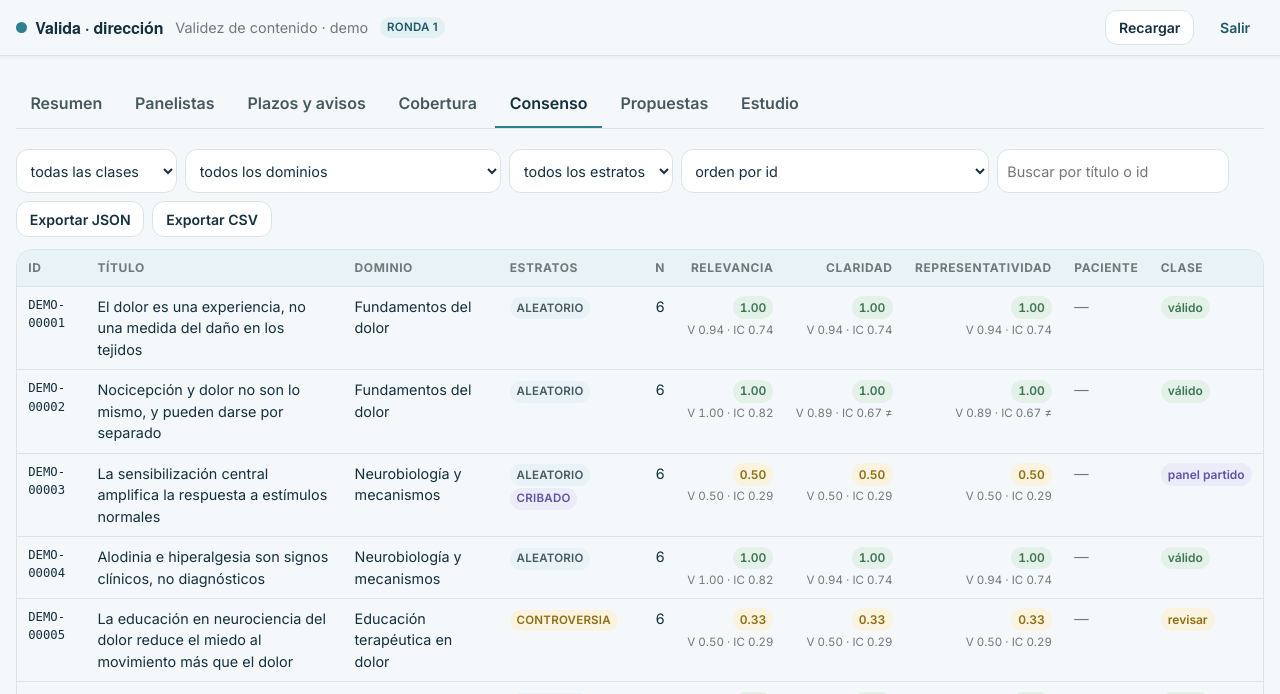
Panel de dirección › al pulsar una fila de Consenso se abre el expediente del concepto
Click the text "DEMO-00005": click(640, 640) [17,598,1263,682]
(page scrolled)
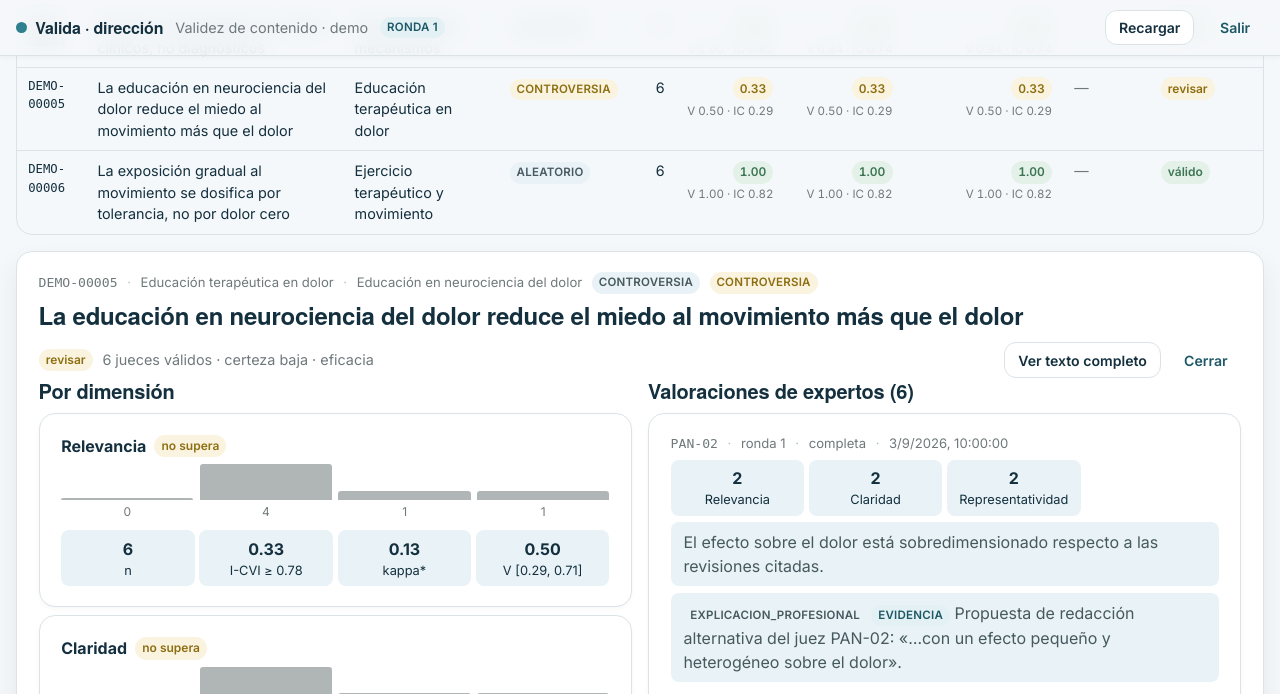
Result: the heading "Por dimensión" is shown at [39,376,175,405]
Result: the heading "Valoraciones de expertos (6)" is shown at [648,376,914,405]
Click the button "Ver texto completo": click(1083, 360) [1004,342,1161,378]
(page scrolled)
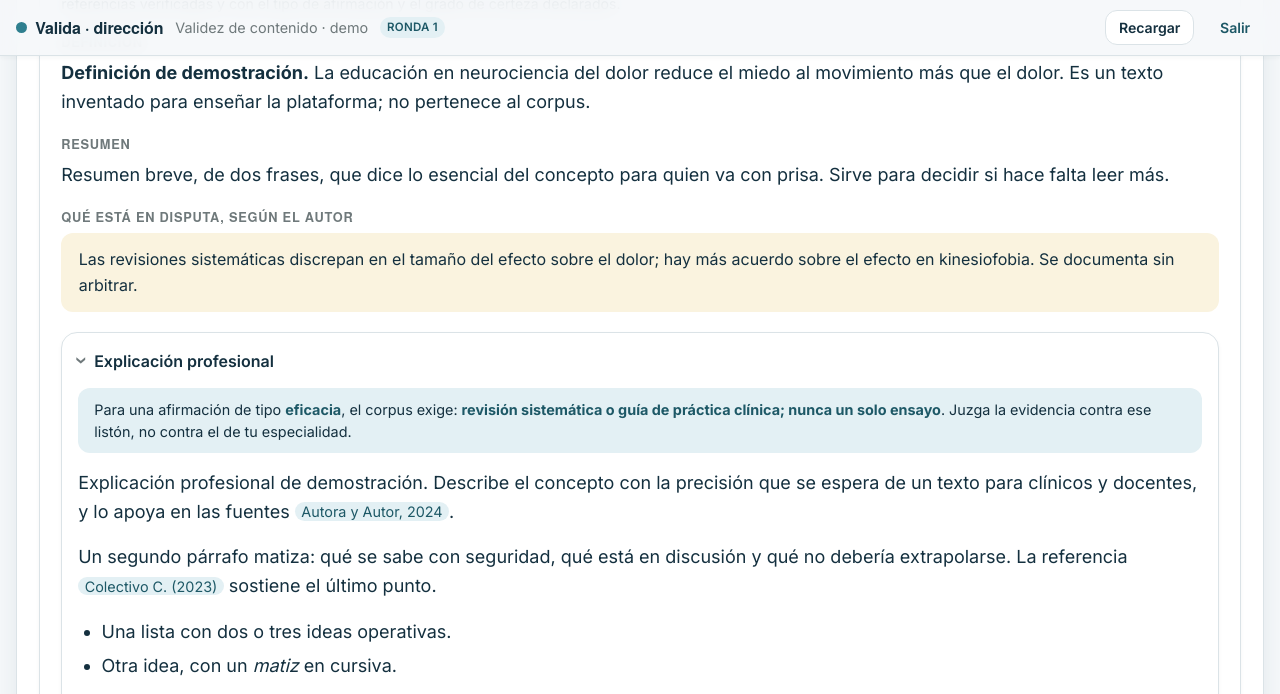
Result: the heading "Explicación profesional" is shown at [94,351,274,371]
